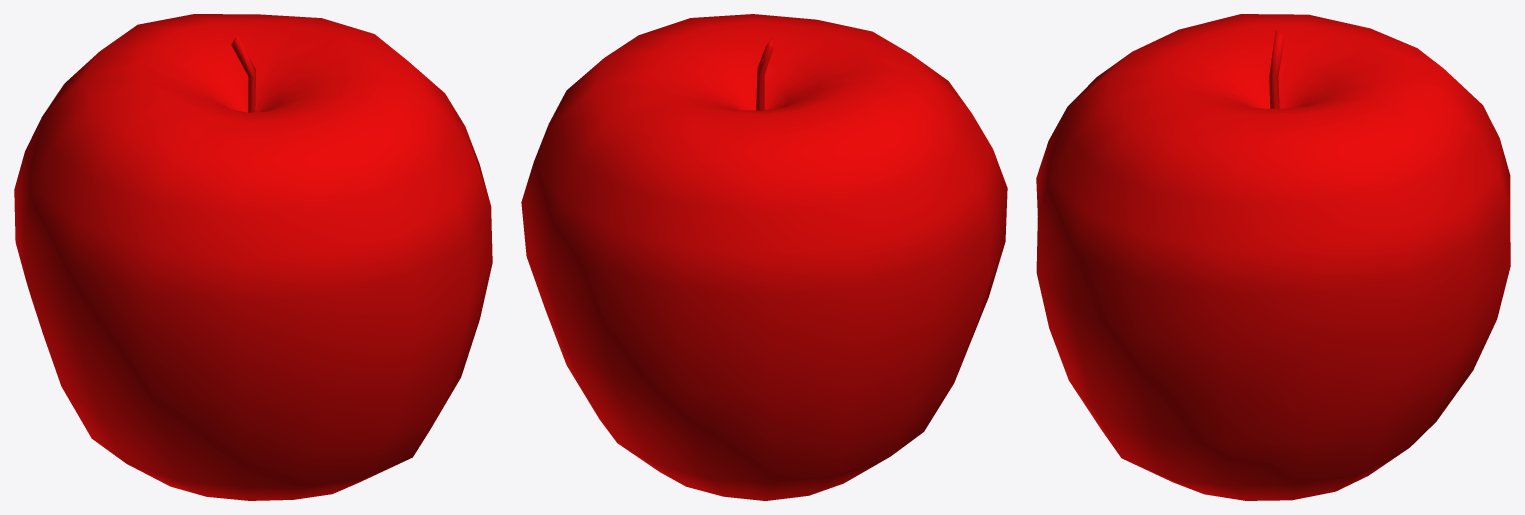
File: thorkea_apples_grp.fbx
The picture shows the model from 3 angles, left to right: view 1: azimuth 30°, elevation 25°; view 2: azimuth 150°, elevation 25°; view 3: azimuth 270°, elevation 25°; orthographic projection.
Parts seen in each view (by area): view 1: thorkea_apple_ai2_1; view 2: thorkea_apple_ai2_1; view 3: thorkea_apple_ai2_1.
Boxes of the visible parts, x1=… form: thorkea_apple_ai2_1: x1=14, y1=14, x2=492, y2=500; thorkea_apple_ai2_1: x1=521, y1=14, x2=1007, y2=500; thorkea_apple_ai2_1: x1=1036, y1=14, x2=1510, y2=500.
Bounding box in the file's own units: 7.74 × 7.81 × 7.86.
